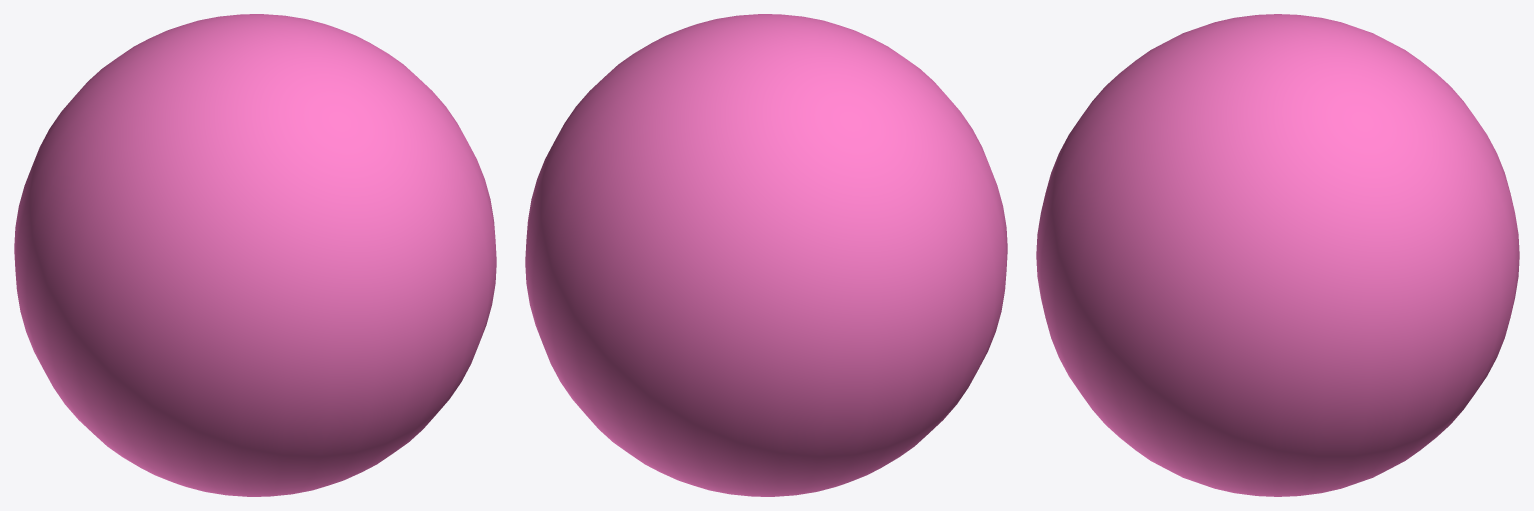
Rendered from force_field_model.obj.
3 views of the same model, side by side, from view 1: azimuth 30°, elevation 25°; view 2: azimuth 150°, elevation 25°; view 3: azimuth 270°, elevation 25° (orthographic).
Parts seen in each view (by area): view 1: shell_Sphere.001; view 2: shell_Sphere.001; view 3: shell_Sphere.001.
Boxes of the visible parts, x1,y1,x2,y2 form: shell_Sphere.001: (14,14,496,496); shell_Sphere.001: (525,14,1007,496); shell_Sphere.001: (1036,14,1519,496).
Size of the model in its own units: 4.61 by 4.61 by 4.61.
